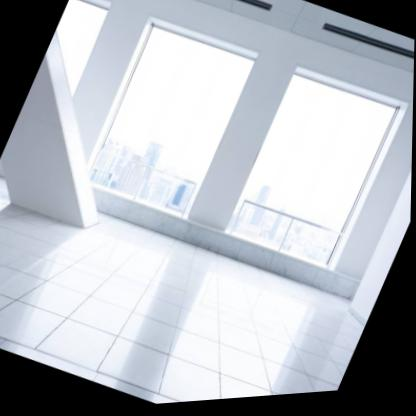Window: (224, 64, 402, 279), (84, 21, 256, 227)
